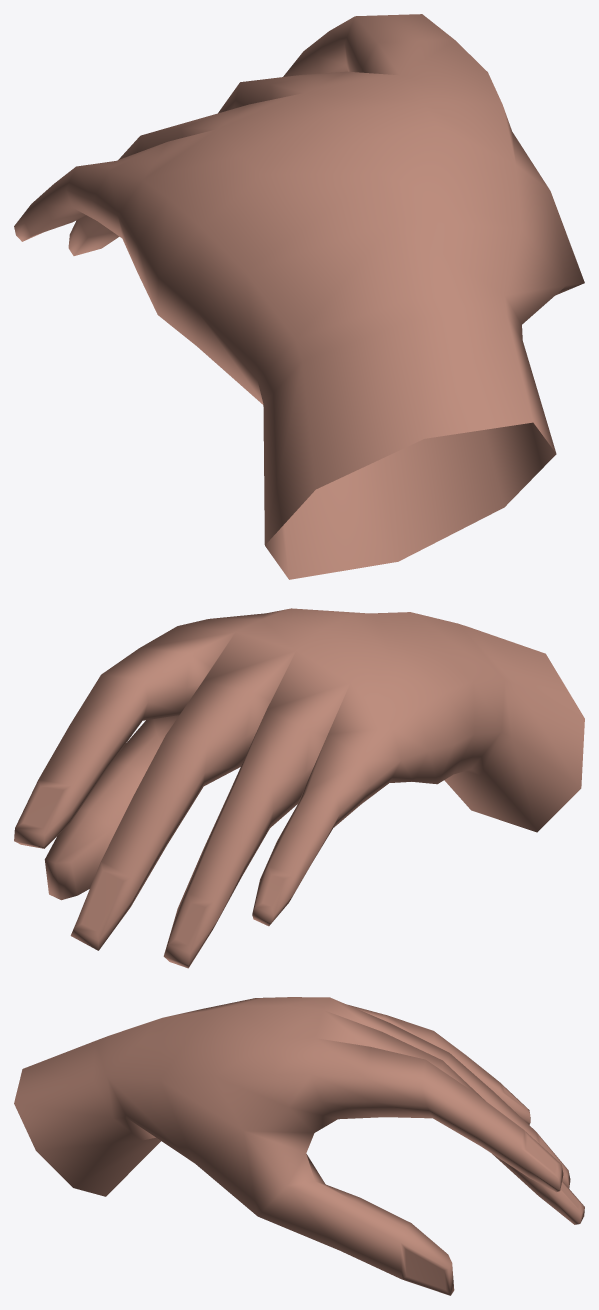
The model's file is driver-hand.glb.
3 views of the same model, one above another, from view 1: azimuth 30°, elevation 25°; view 2: azimuth 150°, elevation 25°; view 3: azimuth 270°, elevation 25° (orthographic). The views are drawn at different scales.
Parts seen in each view (by area): view 1: Driver hand; view 2: Driver hand; view 3: Driver hand.
Part boxes in pixels (x1,y1,x2,y2): Driver hand: [14, 14, 584, 579]; Driver hand: [14, 608, 584, 968]; Driver hand: [14, 997, 584, 1295].
Size of the model in its own units: 0.0775 by 0.0523 by 0.1268.
